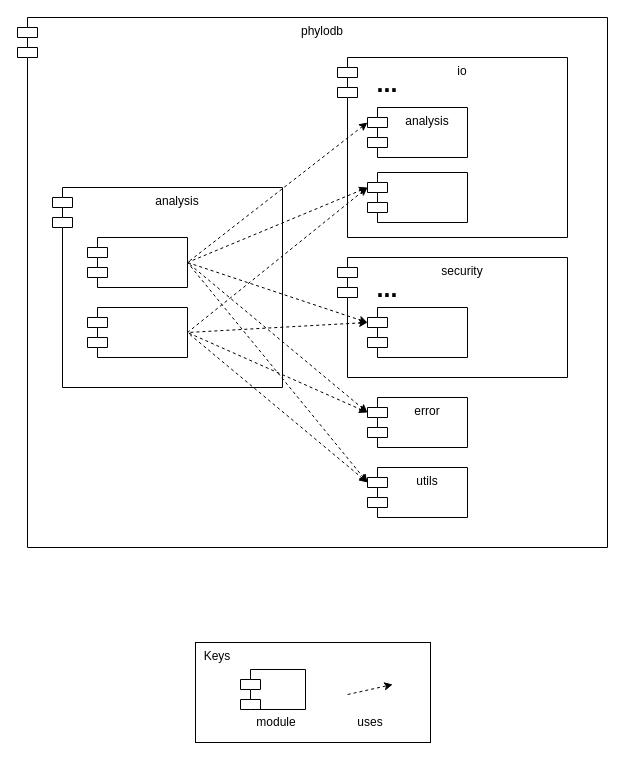
This 625x760 diagram has some shape labels left out. Each missing label, with the centre of its shape:
authorization: point (417, 332)
inference: point (137, 262)
output: point (417, 197)
visualization: point (137, 332)
